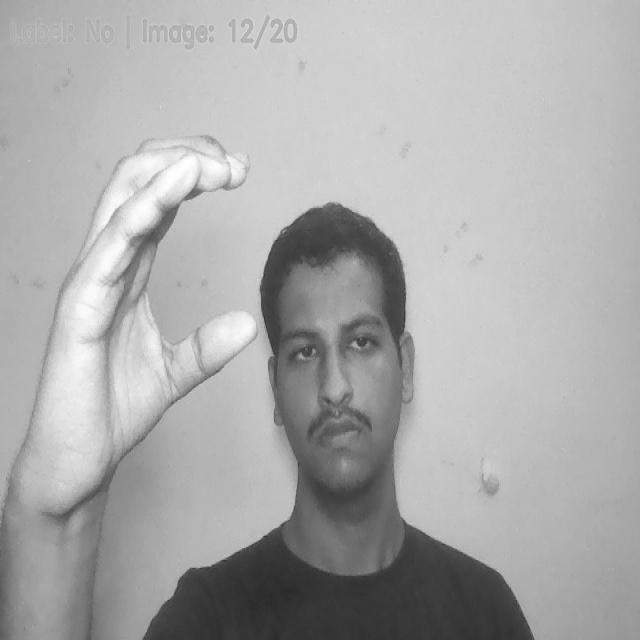No: (17, 135, 263, 519)
